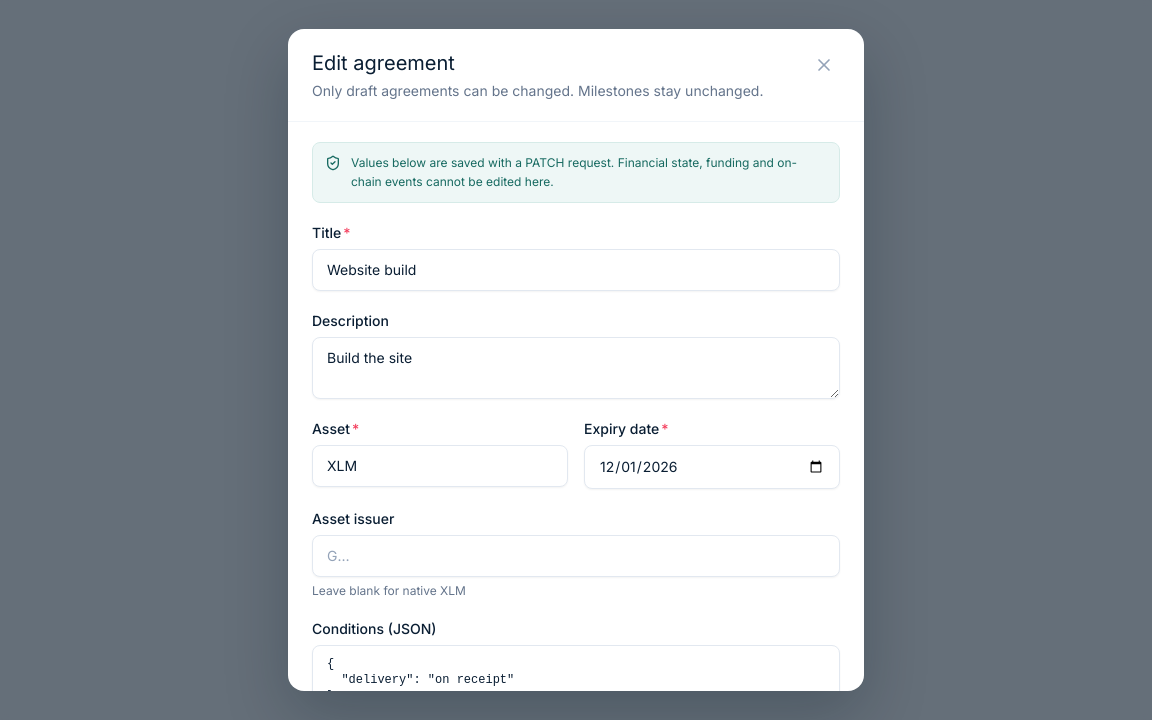
Test: EditAgreementModal › requires an issuer for non-XLM assets
Replace the text in the field with id "edit-ag-asset" with "USDC" at x=440, y=466, box [312,445,568,487]
(page scrolled)
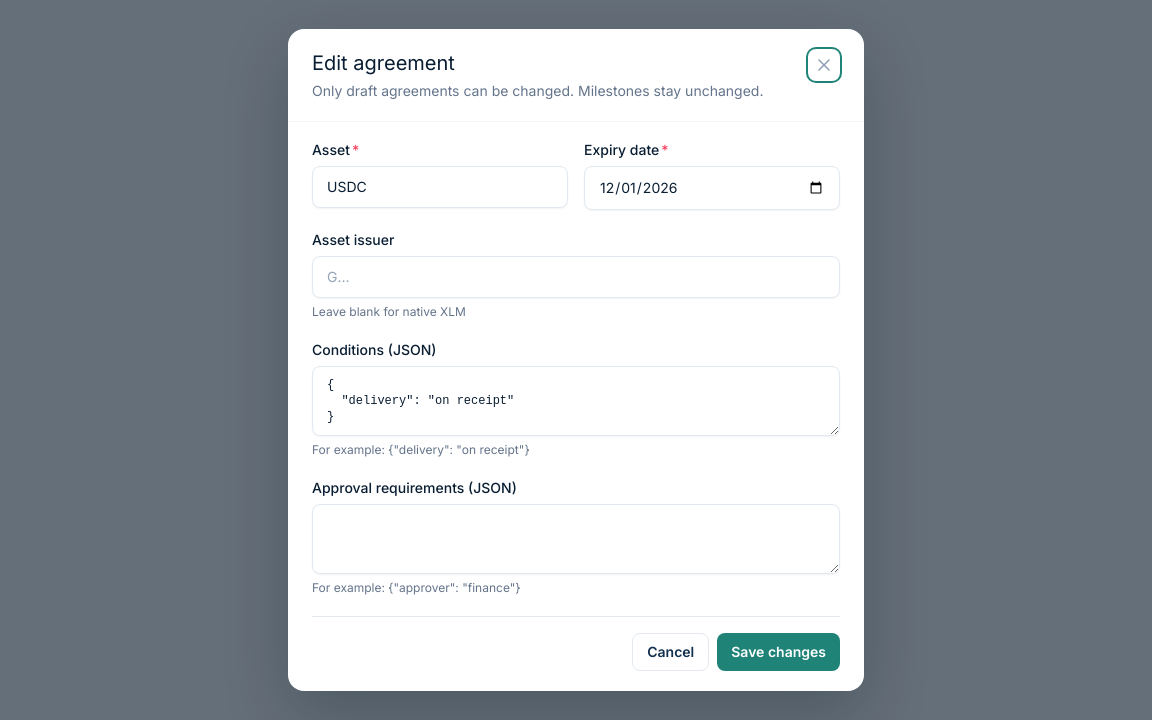
Click the button "Save changes" at x=779, y=652, box [717,633,840,671]
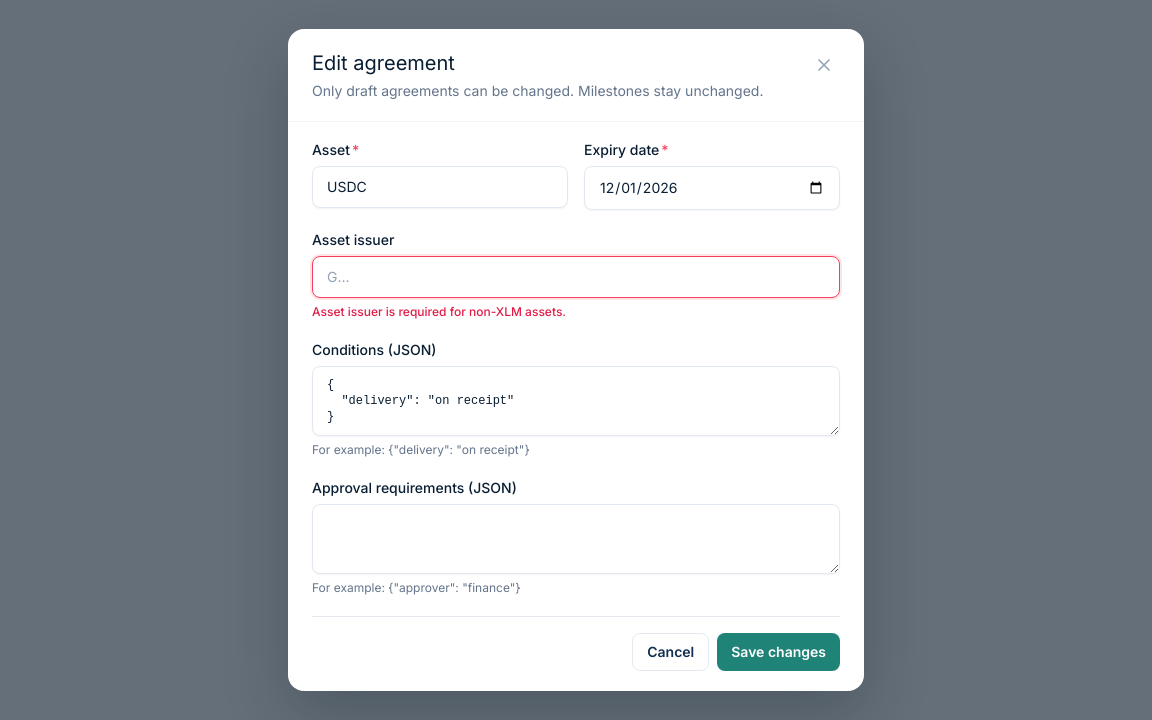
Now the text "Asset issuer is required for non-XLM assets." is shown, box [312,304,566,319]
